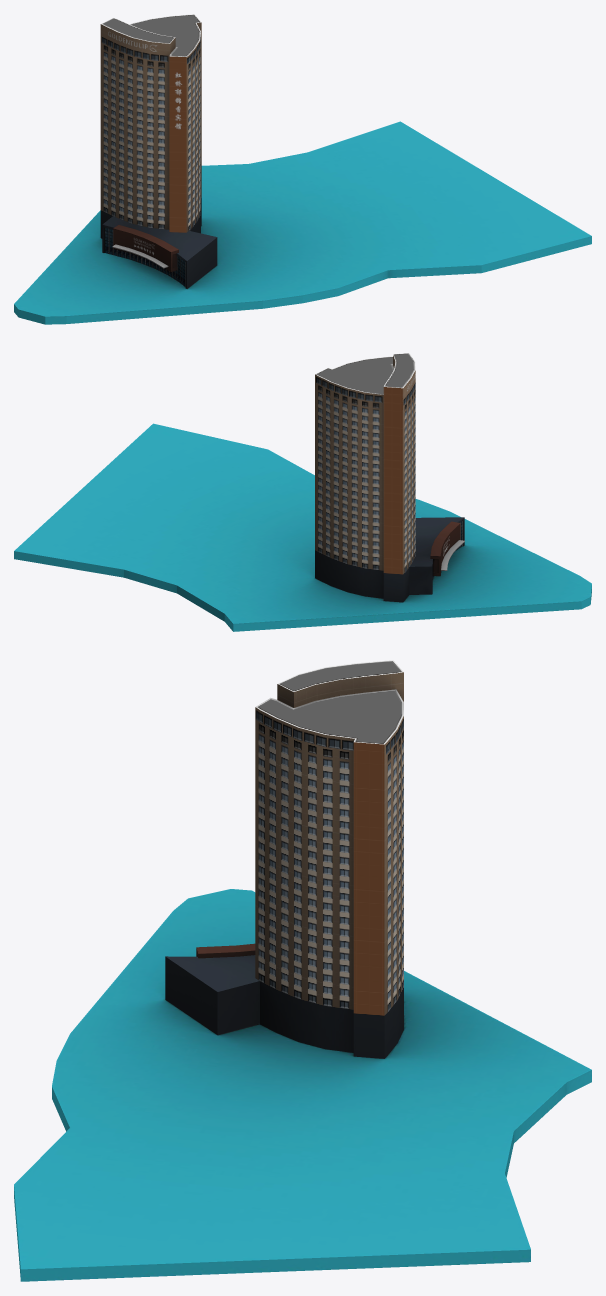
File: hqyjx.gltf
3 renders of one model, top to bottom at view 1: azimuth 30°, elevation 25°; view 2: azimuth 150°, elevation 25°; view 3: azimuth 270°, elevation 25°, orthographic. The views are drawn at different scales.
Visible parts, largest first — view 1: pCube1, pCylinder1, polySurface1, polySurface2; view 2: pCube1, pCylinder1, polySurface1, polySurface2; view 3: pCube1, pCylinder1, polySurface1.
Boxes of the visible parts, x1,y1,x2,y2 form: pCube1: [14, 121, 591, 324]; pCylinder1: [100, 14, 201, 238]; polySurface1: [102, 216, 217, 288]; polySurface2: [113, 225, 178, 271]; pCube1: [14, 423, 591, 631]; pCylinder1: [315, 353, 415, 602]; polySurface1: [409, 517, 464, 594]; polySurface2: [430, 521, 460, 576]; pCube1: [14, 889, 591, 1281]; pCylinder1: [255, 660, 403, 1058]; polySurface1: [165, 955, 259, 1035].
Size of the model in its own units: 14.9 by 6.25 by 9.56.
Materials: 1 (1 with a texture image).
